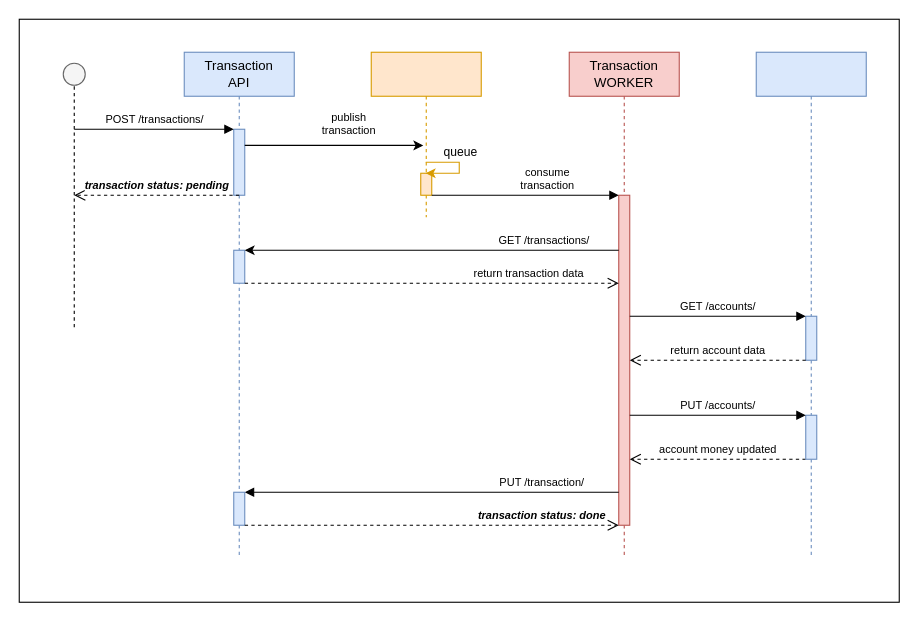
Some shapes in this 919 by 622 pixel diagram are drawn without their labels. Each missing label, with the centre of its shape:
Account API: the point at 810,304
RabbitMQ: the point at 425,134
